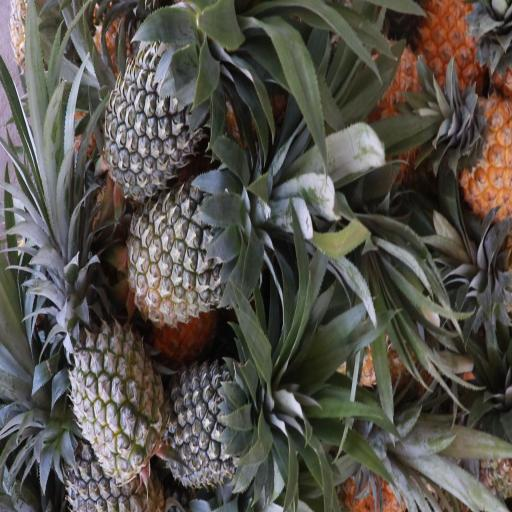------------------------------: (134, 185, 256, 317), (77, 319, 165, 471)
Pineapple - v8 v1: (444, 90, 512, 216), (421, 0, 489, 97)
